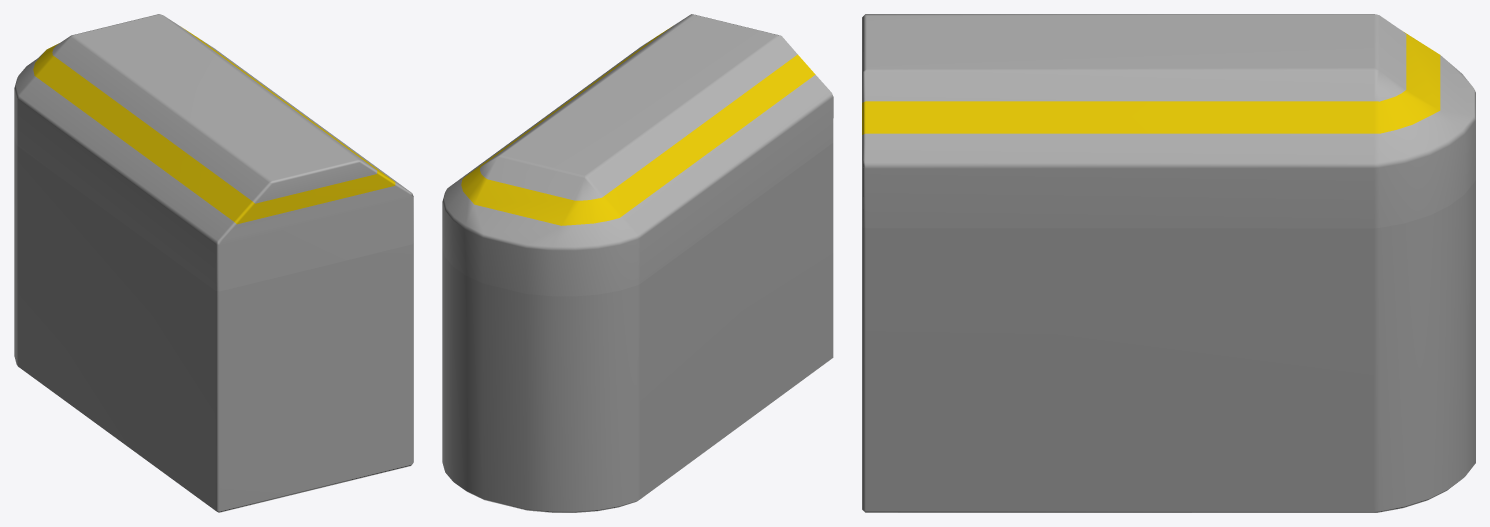
The model's file is env_building_jerseybarrier_end.fbx.
The picture shows the model from 3 angles, left to right: view 1: azimuth 30°, elevation 25°; view 2: azimuth 150°, elevation 25°; view 3: azimuth 270°, elevation 25°; orthographic projection. The views are drawn at different scales.
Visible parts, largest first — view 1: polySurface1591; view 2: polySurface1591; view 3: polySurface1591.
Part boxes in pixels (x1,y1,x2,y2): polySurface1591: (14, 14, 413, 512); polySurface1591: (442, 14, 833, 512); polySurface1591: (862, 14, 1475, 512).
Size of the model in its own units: 14.38 by 22.19 by 30.
